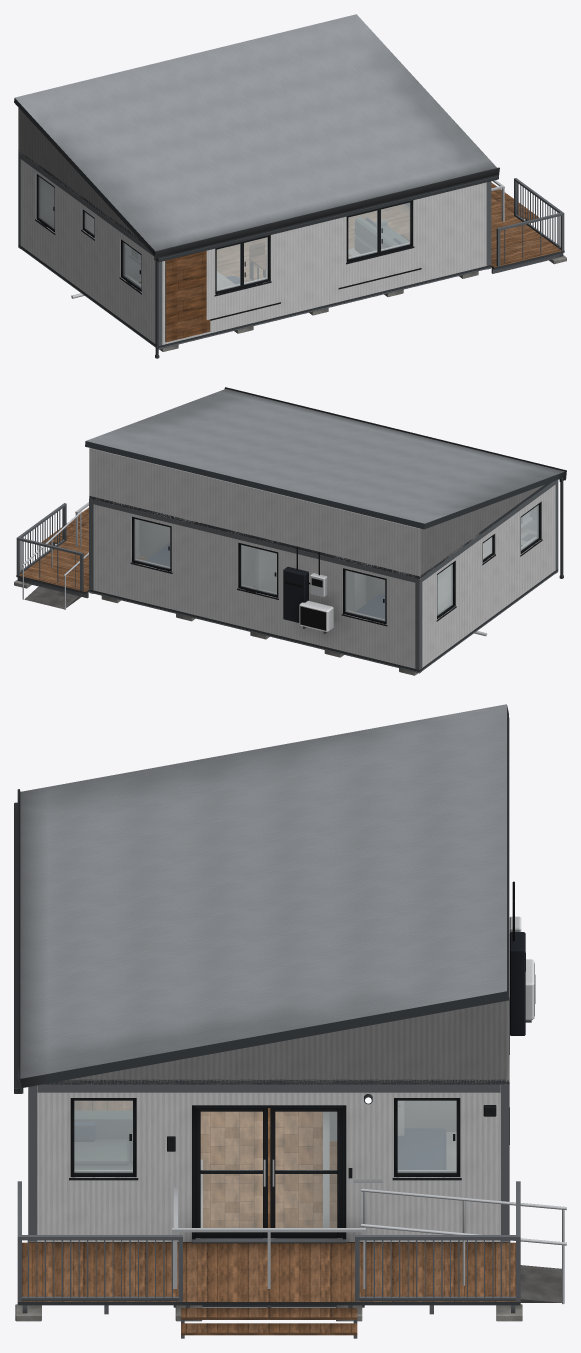
Rendered from Studio30_Production.glb.
The picture shows the model from 3 angles, top to bottom: view 1: azimuth 30°, elevation 25°; view 2: azimuth 150°, elevation 25°; view 3: azimuth 270°, elevation 25°; orthographic projection. The views are drawn at different scales.
Parts seen in each view (by area): view 1: RoofSlopingUpgrade, ExteriorPanelsStandard, WindowsStandard, WindowsLargeUpgrade, TerraceDeck, ExteriorPanelsPremium, FloorSPCUpgrade, TopFrame, BaseFrame, FurnitureStaging, RoofMain, BedroomWardrobes (+2 smaller); view 2: RoofSlopingUpgrade, ExteriorPanelsStandard, WindowsStandard, WindowsLargeUpgrade, TerraceDeck, TopFrame, BedroomWalls, RoofMain, BaseFrame, SolarPrep, LayoutS30TwoBed, AccessibilityVillage (+4 smaller); view 3: RoofSlopingUpgrade, TerraceDeck, ExteriorPanelsStandard, EntryDoor, FloorSPCUpgrade, WindowsStandard, WindowsLargeUpgrade, TopFrame, FurnitureStaging, AccessibilityVillage, RoofMain, SolarPrep (+3 smaller).
Boxes of the visible parts, bbox=[...] form: RoofSlopingUpgrade: bbox=[14, 14, 499, 262]; ExteriorPanelsStandard: bbox=[20, 159, 486, 344]; WindowsStandard: bbox=[35, 174, 420, 319]; WindowsLargeUpgrade: bbox=[36, 177, 421, 320]; TerraceDeck: bbox=[491, 178, 566, 273]; ExteriorPanelsPremium: bbox=[165, 250, 210, 342]; FloorSPCUpgrade: bbox=[217, 204, 409, 282]; TopFrame: bbox=[18, 152, 491, 345]; BaseFrame: bbox=[18, 244, 491, 349]; FurnitureStaging: bbox=[355, 217, 409, 253]; RoofMain: bbox=[18, 150, 159, 358]; BedroomWardrobes: bbox=[40, 178, 54, 226]; RoofSlopingUpgrade: bbox=[85, 387, 566, 578]; ExteriorPanelsStandard: bbox=[93, 484, 555, 668]; WindowsStandard: bbox=[130, 502, 542, 626]; WindowsLargeUpgrade: bbox=[132, 505, 540, 623]; TerraceDeck: bbox=[14, 503, 89, 598]; TopFrame: bbox=[89, 480, 558, 669]; BedroomWalls: bbox=[140, 520, 365, 611]; RoofMain: bbox=[89, 478, 563, 578]; BaseFrame: bbox=[89, 569, 558, 673]; SolarPrep: bbox=[283, 546, 327, 622]; LayoutS30TwoBed: bbox=[255, 549, 384, 603]; AccessibilityVillage: bbox=[21, 502, 88, 609]; RoofSlopingUpgrade: bbox=[14, 704, 509, 1093]; TerraceDeck: bbox=[15, 1181, 522, 1338]; ExteriorPanelsStandard: bbox=[29, 1085, 508, 1241]; EntryDoor: bbox=[192, 1105, 346, 1243]; FloorSPCUpgrade: bbox=[74, 1101, 337, 1227]; WindowsStandard: bbox=[69, 1017, 509, 1180]; WindowsLargeUpgrade: bbox=[70, 1098, 459, 1176]; TopFrame: bbox=[28, 1084, 509, 1241]; FurnitureStaging: bbox=[74, 1111, 456, 1169]; AccessibilityVillage: bbox=[172, 1187, 566, 1307]; RoofMain: bbox=[43, 1079, 509, 1084]; SolarPrep: bbox=[509, 881, 525, 1035].
Size of the model in its own units: 11.68 by 4.11 by 7.52.
Materials: 47 (22 with a texture image).
